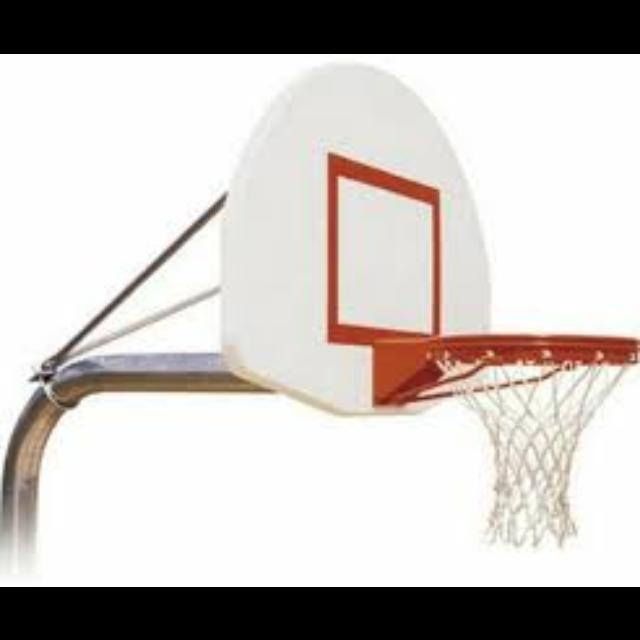rim: (432, 334, 640, 538)
